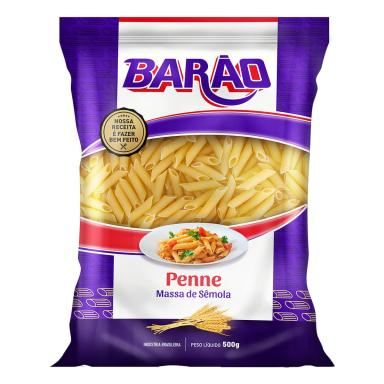pasta package: (55, 18, 332, 366)
